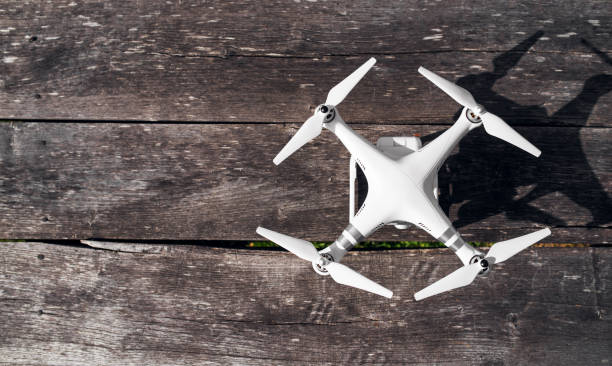Drone: (250, 52, 554, 305)
